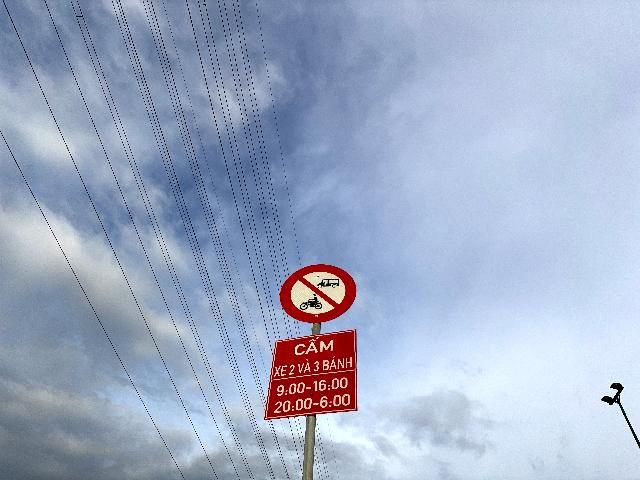cam-xe-2-banh-3-banh: (280, 264, 357, 322)
